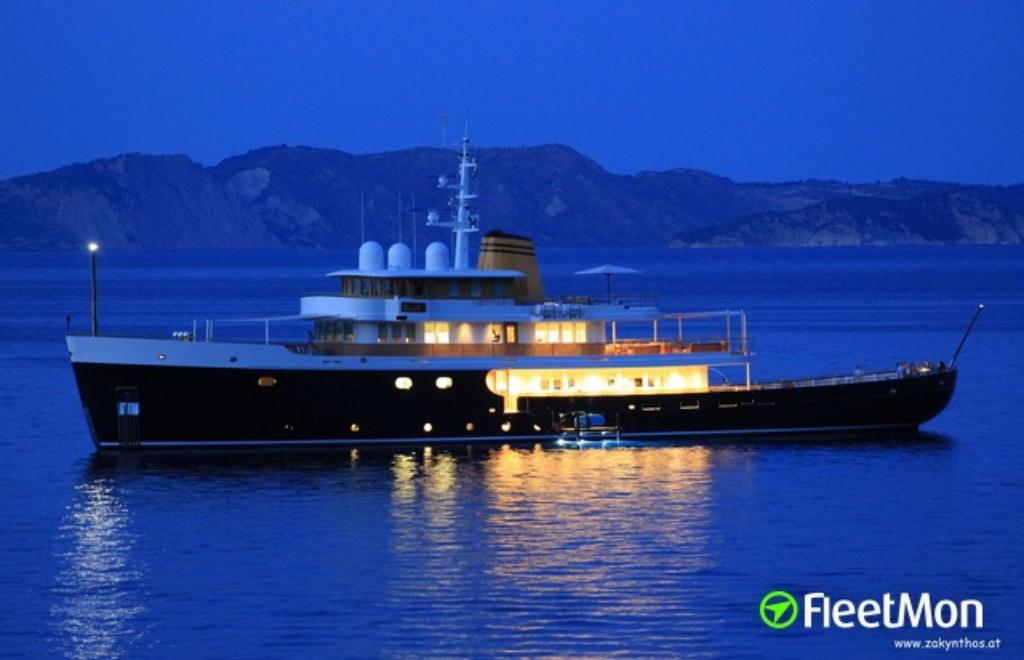PassengerShip: (62, 118, 984, 462)
